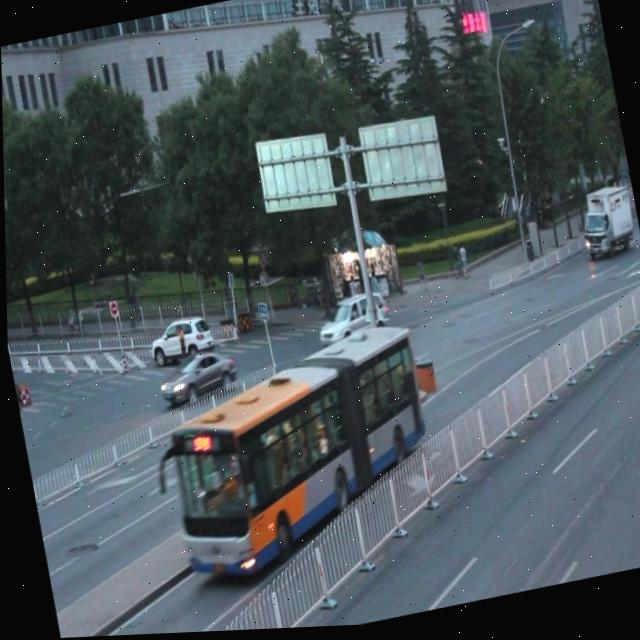bus: (574, 187, 637, 264)
car: (154, 349, 237, 404), (145, 313, 216, 374), (315, 295, 387, 348)
van: (154, 320, 443, 591)
